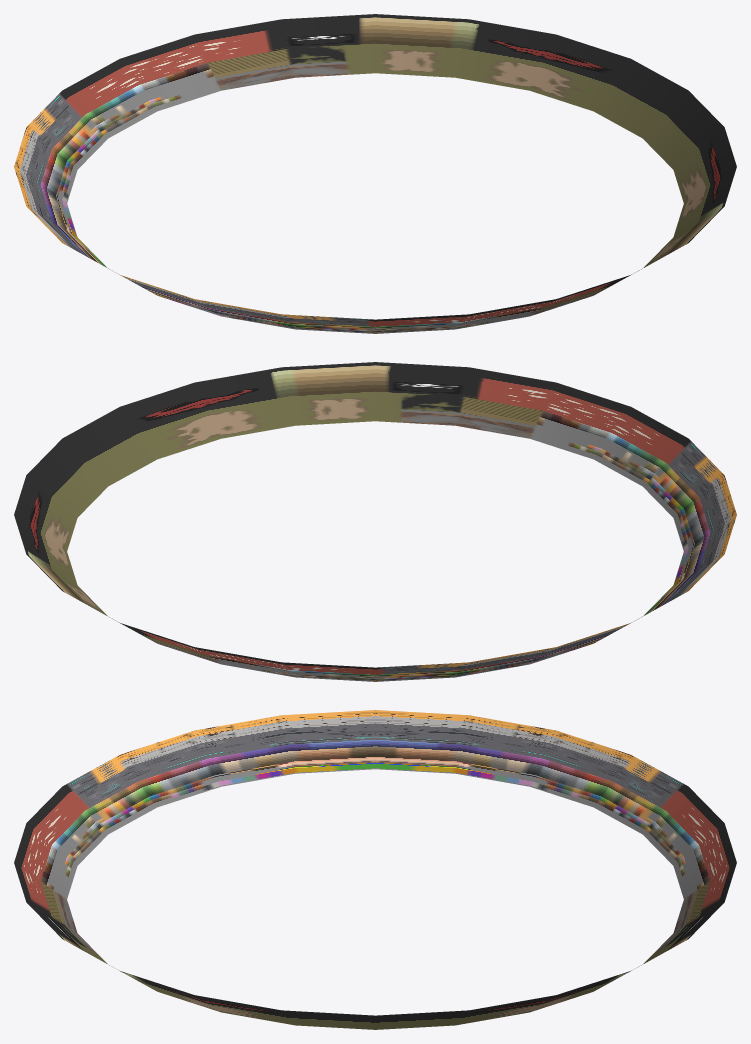
The model's file is enchanted_SM_Env_Fog_Ring_01.gltf.
3 views of the same model, one above another, from view 1: azimuth 30°, elevation 25°; view 2: azimuth 150°, elevation 25°; view 3: azimuth 270°, elevation 25° (orthographic).
Parts seen in each view (by area): view 1: SM_Env_Fog_Ring_01; view 2: SM_Env_Fog_Ring_01; view 3: SM_Env_Fog_Ring_01.
Boxes of the visible parts, left/top/right/bottom form: SM_Env_Fog_Ring_01: left=14, top=14, right=736, bottom=333; SM_Env_Fog_Ring_01: left=14, top=362, right=736, bottom=681; SM_Env_Fog_Ring_01: left=14, top=710, right=736, bottom=1029.
Bounding box in the file's own units: 70.17 × 3.94 × 70.17.
Materials: 1 (1 with a texture image).
